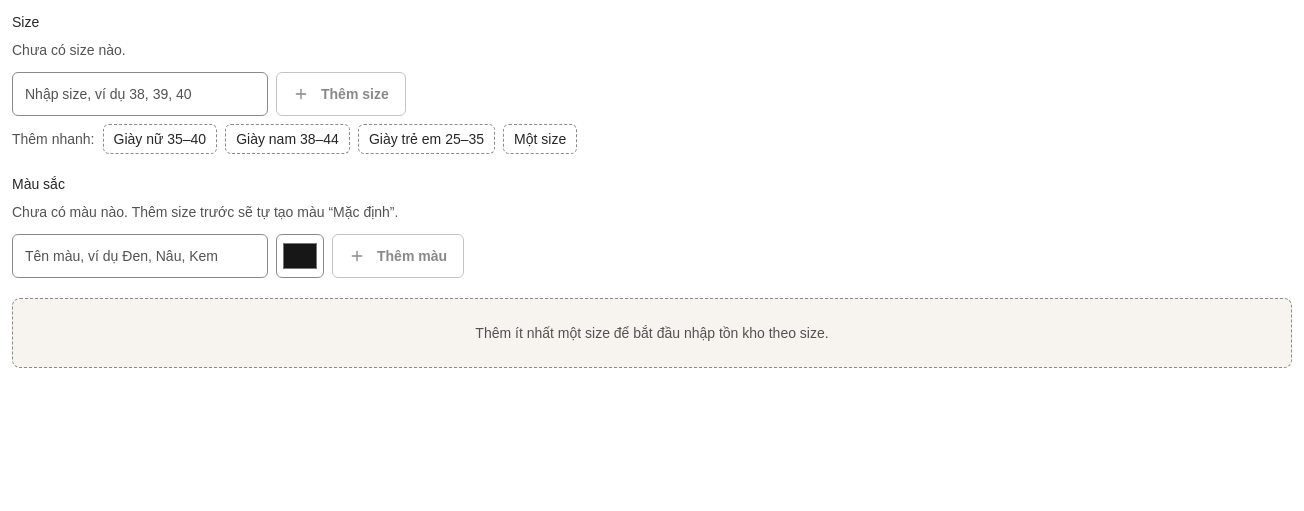
it: VariantEditor › totals the stock typed into the matrix and marks zero as sold out
The image size is (1304, 511).
Type "38, 39" into the field named "Thêm size" at (140, 94), box [12,72,268,116]
Then press Enter
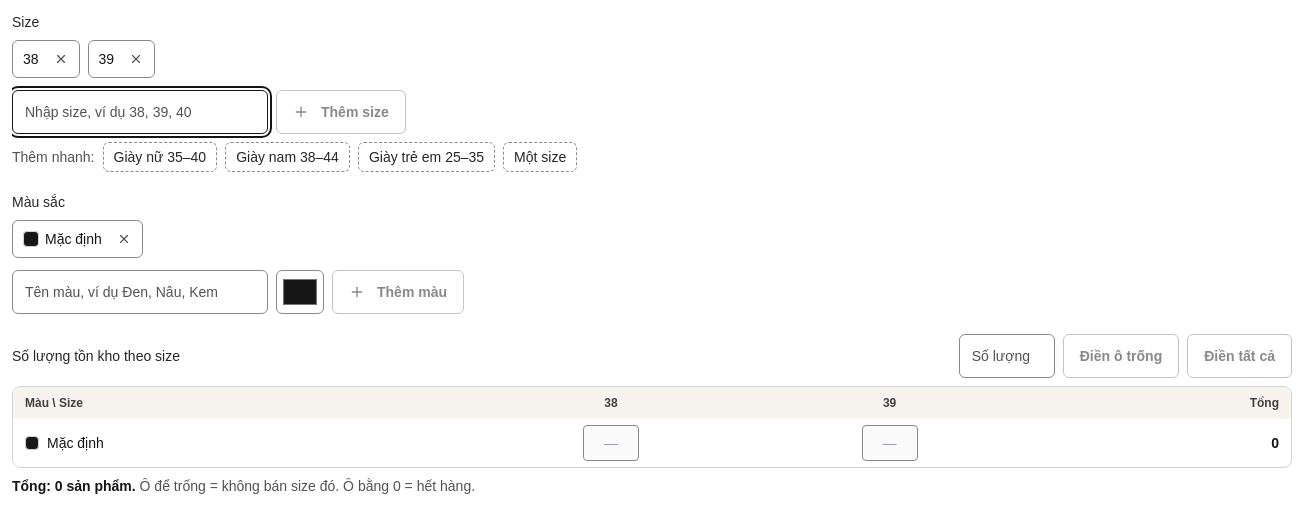
Type "4" into the 1st field with placeholder "—" at (611, 443), box [583,425,639,461]
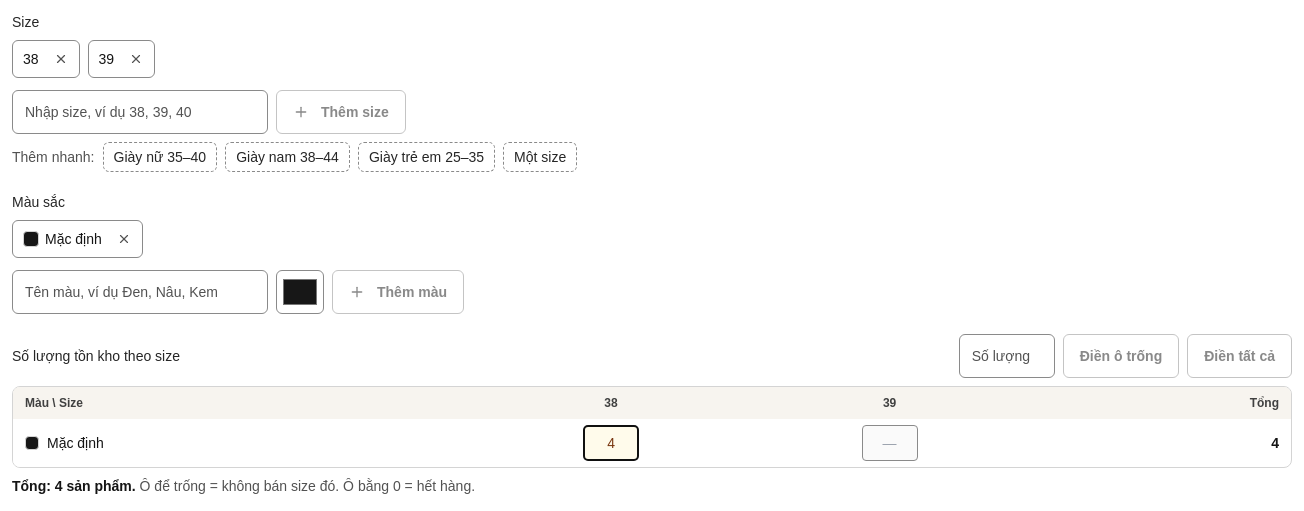
Type "0" into the field with placeholder "—" at (890, 443), box [862,425,918,461]
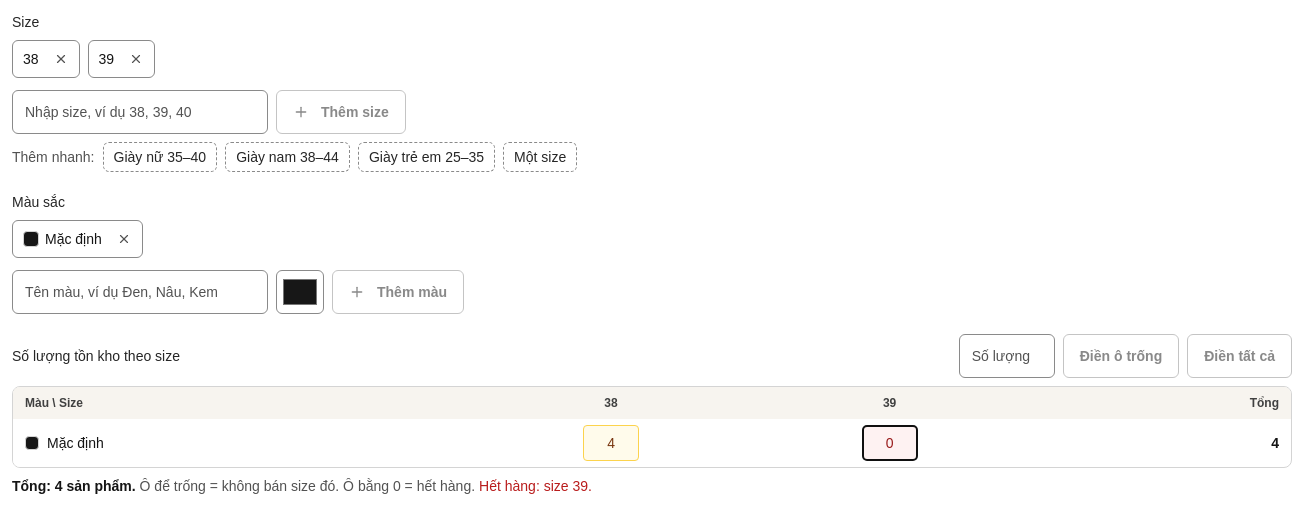
expect the text "Tổng: 4 sản phẩm" is shown: met, box [12,478,136,494]
expect the text "Hết hàng: size 39" is shown: met, box [479,478,592,494]
